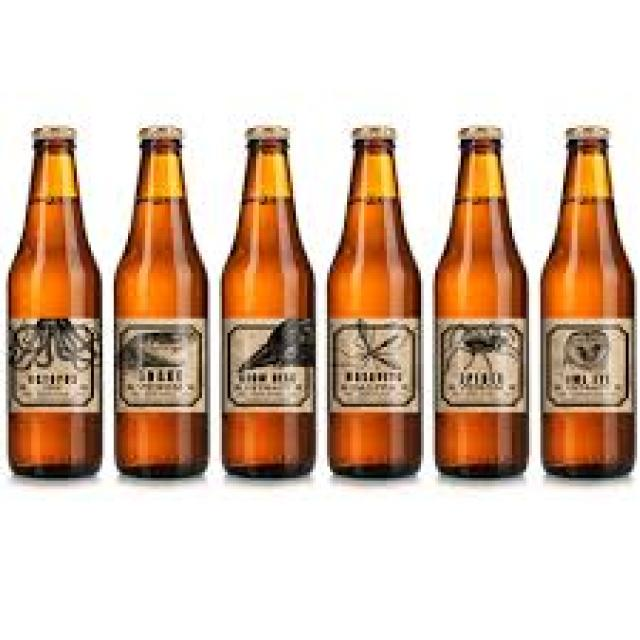glass: (324, 140, 421, 473), (111, 142, 208, 475), (430, 140, 526, 473), (3, 140, 99, 473), (538, 139, 632, 475), (219, 137, 313, 472)
metal: (560, 123, 603, 140), (458, 123, 498, 140), (137, 123, 177, 140), (239, 123, 282, 137), (350, 126, 392, 140), (29, 123, 71, 137)
